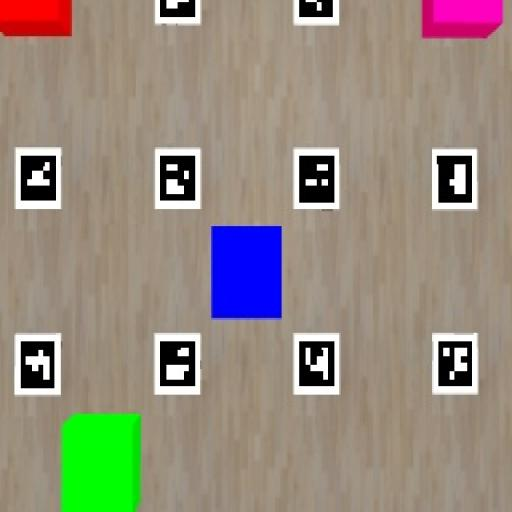car: (61, 414, 140, 511), (212, 227, 281, 319), (423, 0, 503, 38)
fire: (0, 0, 73, 36)
